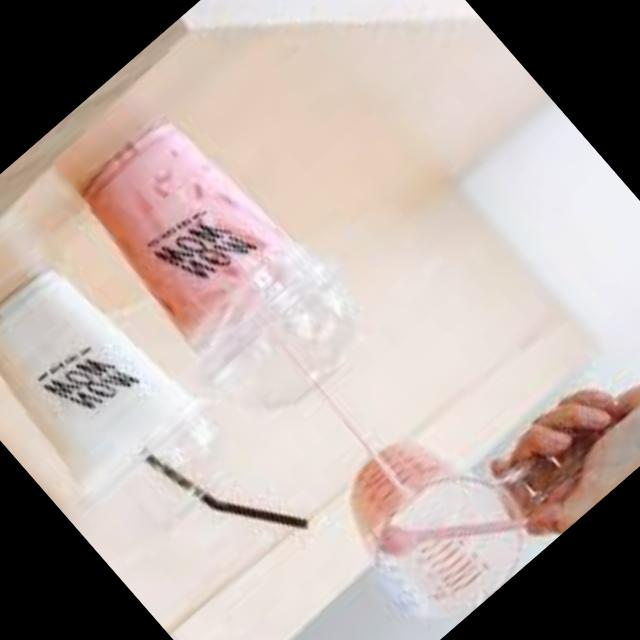GelasPlastik: (57, 98, 385, 440), (0, 243, 255, 563)
